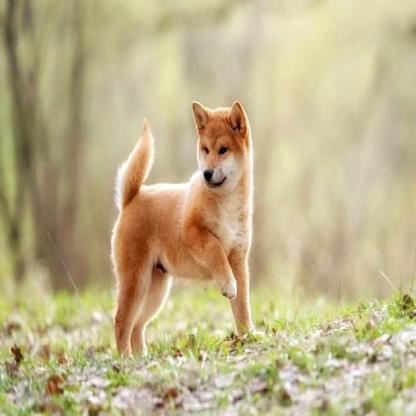Siba-ny: (110, 98, 257, 354)
